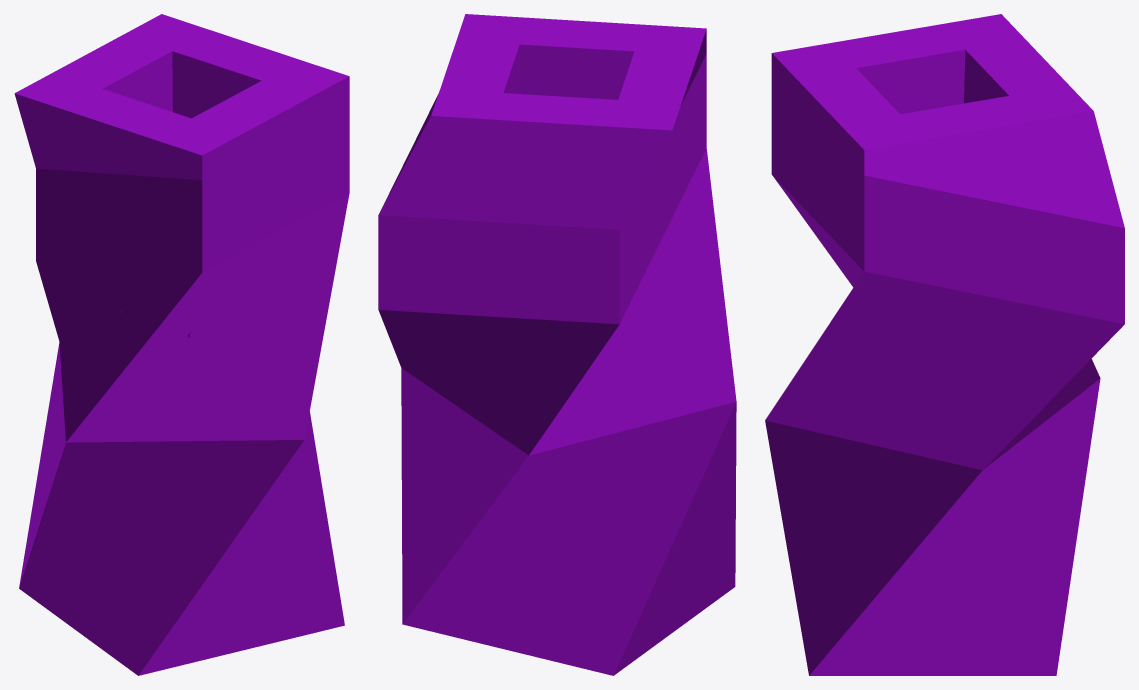
File: vase.obj
The picture shows the model from 3 angles, left to right: view 1: azimuth 30°, elevation 25°; view 2: azimuth 150°, elevation 25°; view 3: azimuth 270°, elevation 25°; orthographic projection. The views are drawn at different scales.
Parts seen in each view (by area): view 1: Cube; view 2: Cube; view 3: Cube.
Part boxes in pixels (left/top/right/bottom): Cube: left=14, top=14, right=349, bottom=675; Cube: left=378, top=14, right=736, bottom=675; Cube: left=765, top=14, right=1124, bottom=675.
Bounding box in the file's own units: 2.71 × 4.83 × 2.91.
